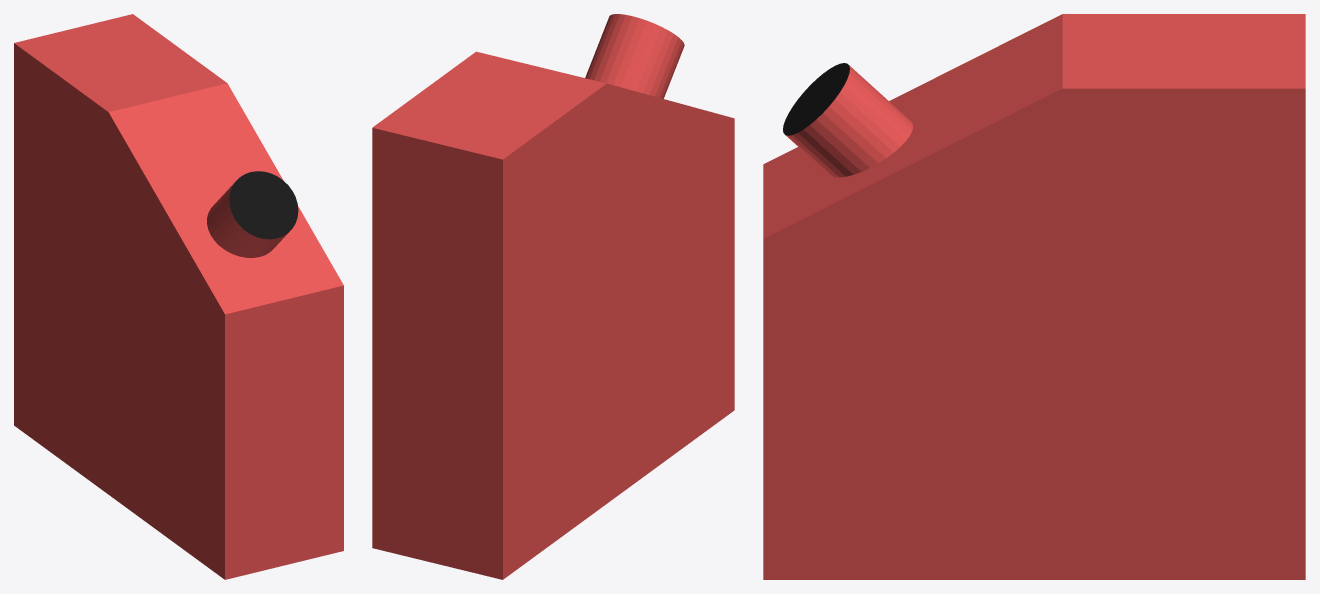
File: GASCAN.glb
3 renders of one model, left to right at view 1: azimuth 30°, elevation 25°; view 2: azimuth 150°, elevation 25°; view 3: azimuth 270°, elevation 25°, orthographic. The views are drawn at different scales.
Visible parts, largest first — view 1: Cube; view 2: Cube; view 3: Cube.
Boxes of the visible parts, x1,y1,x2,y2 form: Cube: (14,14,343,579); Cube: (372,14,734,579); Cube: (763,14,1305,579).
Bounding box in the file's own units: 0.258 × 0.793 × 0.793.
